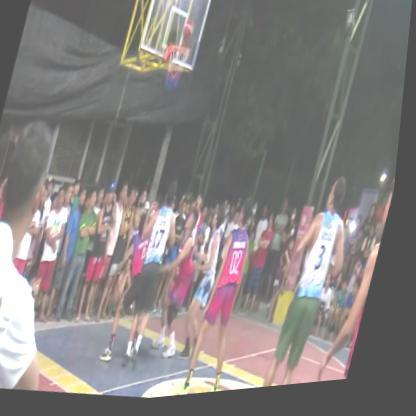basketball: (179, 20, 197, 48)
rim: (157, 33, 197, 97)
